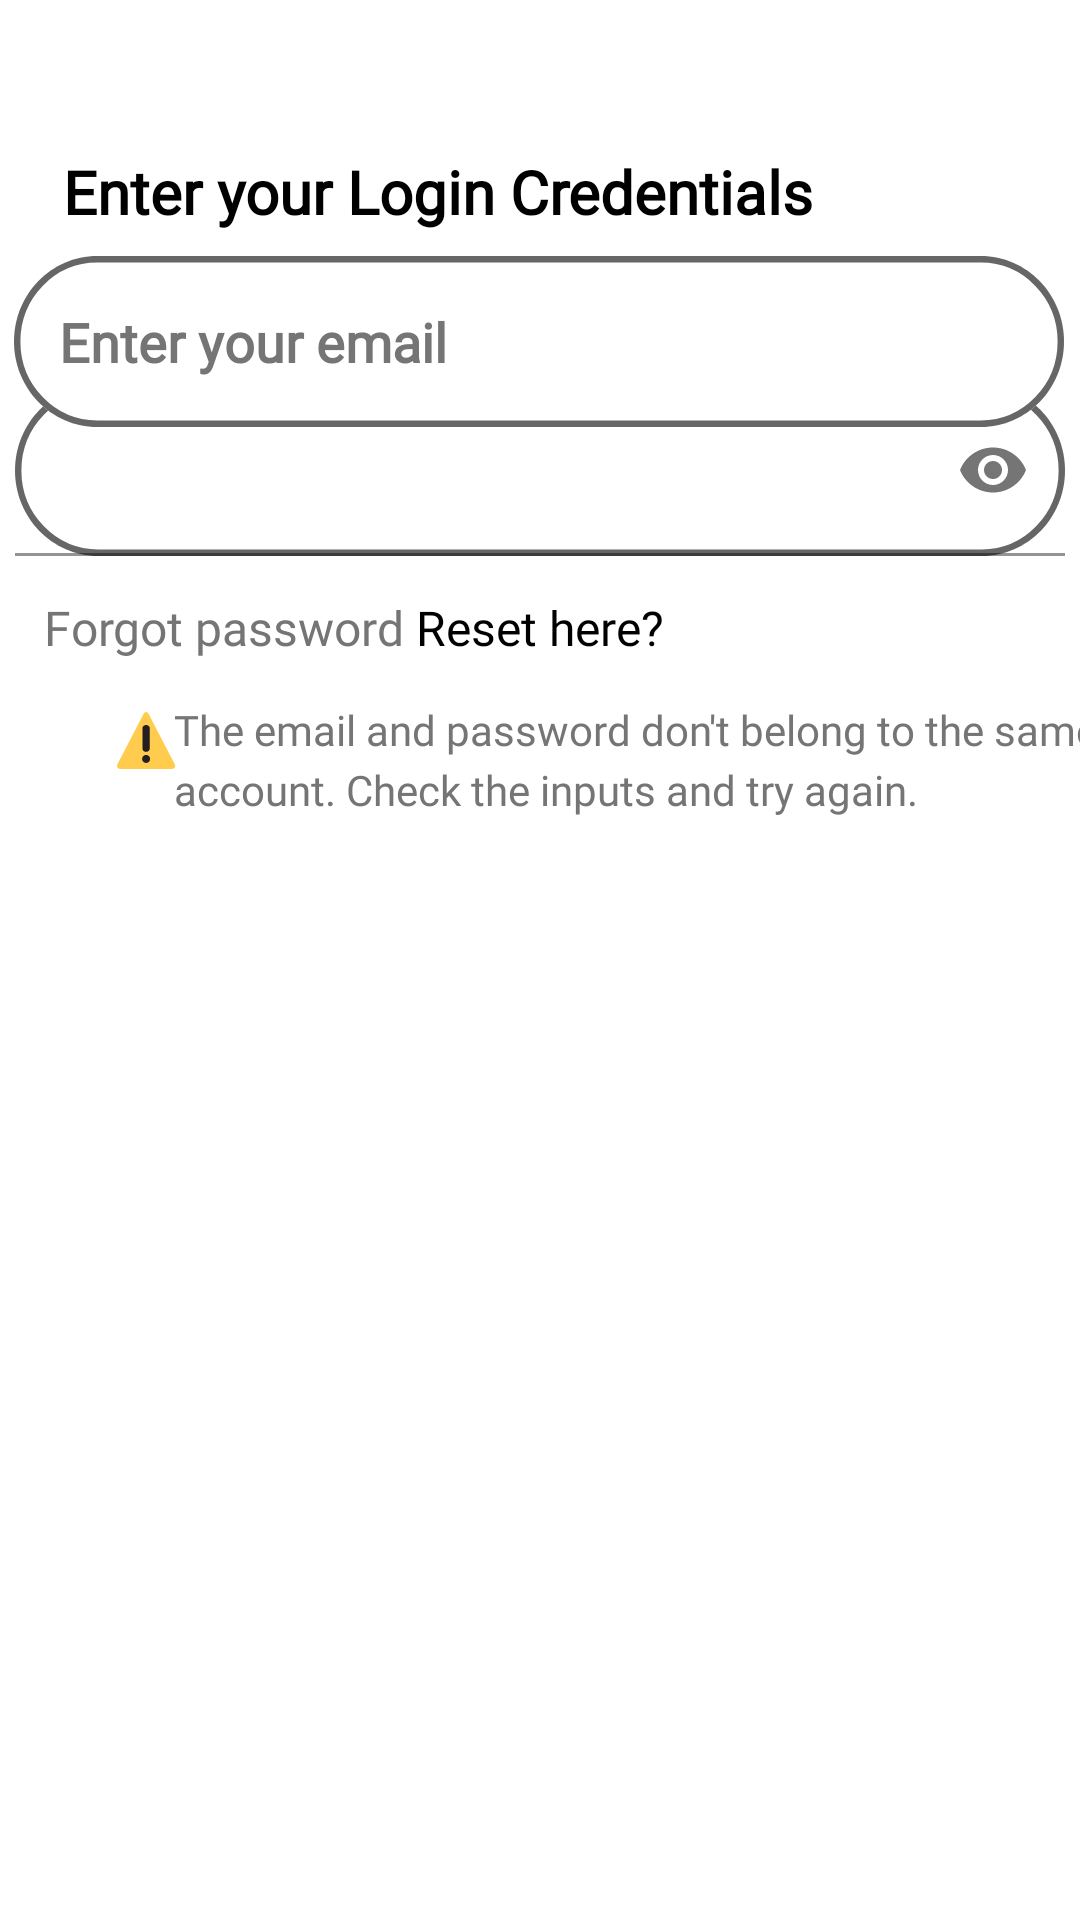

Where icons sit on this 1080 × 1920 app screen, as box=[x1, y1, x2, y2]:
warning: box=[117, 712, 175, 769]
